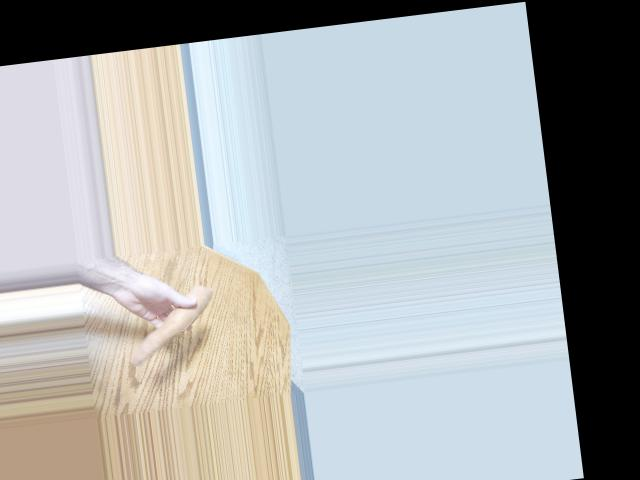sweet_potato: (123, 283, 212, 363)
